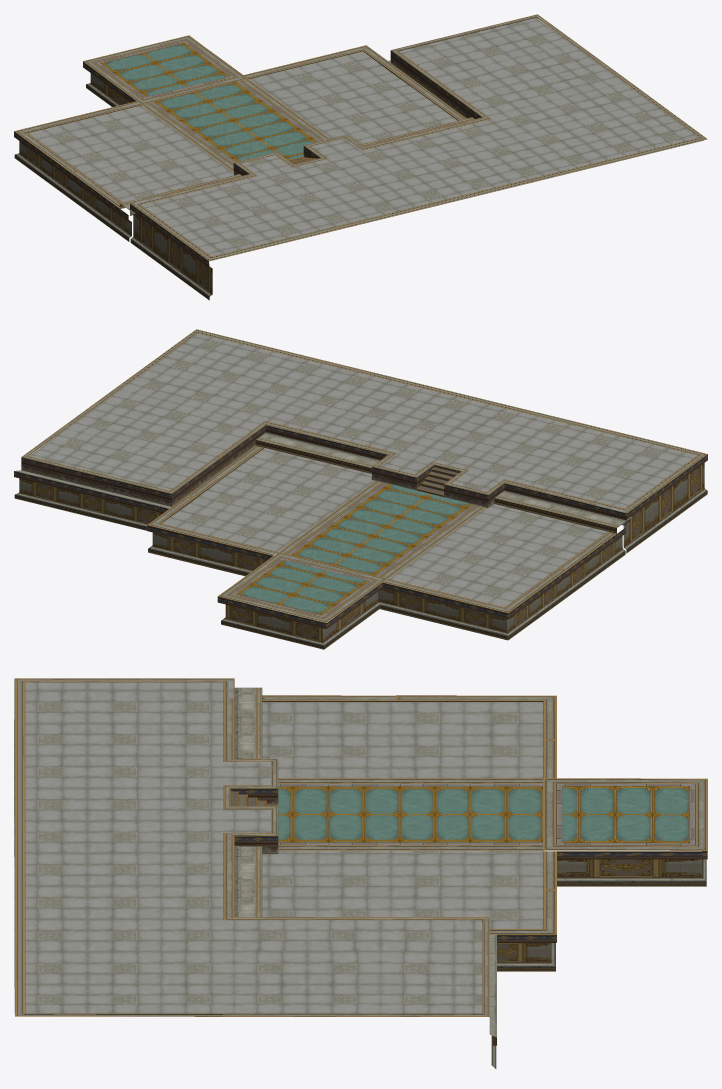
Rendered from Yland1_jz_06 Yland1.FBX.
3 renders of one model, top to bottom at view 1: azimuth 30°, elevation 25°; view 2: azimuth 150°, elevation 25°; view 3: azimuth 270°, elevation 25°, orthographic. The views are drawn at different scales.
Visible parts, largest first — view 1: Yland1_jz_06 Yland1; view 2: Yland1_jz_06 Yland1; view 3: Yland1_jz_06 Yland1.
Boxes of the visible parts, x1,y1,x2,y2 form: Yland1_jz_06 Yland1: (14,14,707,300); Yland1_jz_06 Yland1: (14,329,707,649); Yland1_jz_06 Yland1: (14,678,707,1068).
Size of the model in its own units: 53.96 by 4.05 by 46.25.
